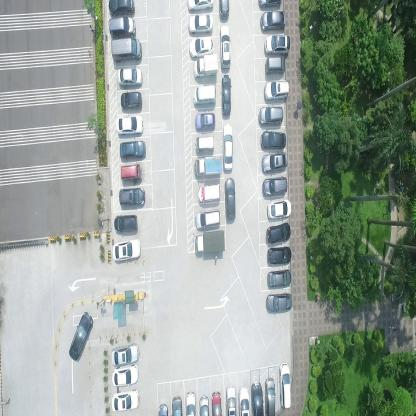car: (68, 311, 93, 362), (194, 229, 226, 254), (111, 236, 141, 262), (111, 38, 141, 63), (110, 342, 140, 367), (111, 386, 140, 411), (111, 363, 139, 388), (260, 150, 288, 174), (193, 54, 218, 80), (266, 221, 292, 246), (193, 155, 221, 178), (115, 114, 144, 136), (278, 360, 291, 408), (263, 78, 289, 101), (188, 36, 214, 58), (259, 11, 285, 33), (264, 35, 290, 57), (109, 18, 135, 40), (265, 291, 292, 312), (266, 196, 290, 219), (258, 104, 283, 126), (261, 174, 286, 196), (195, 208, 221, 229), (119, 140, 146, 160), (118, 187, 145, 207), (223, 123, 234, 172), (219, 25, 231, 69), (224, 177, 236, 221), (188, 14, 213, 35), (118, 68, 143, 89), (266, 268, 291, 289), (192, 85, 216, 106), (260, 131, 286, 150), (197, 184, 220, 205), (113, 213, 138, 232), (119, 163, 142, 183), (264, 377, 276, 415), (251, 380, 264, 415), (108, 0, 136, 16), (267, 246, 291, 264), (221, 74, 231, 116), (264, 56, 284, 76), (195, 112, 216, 131), (120, 92, 142, 110), (225, 383, 237, 415), (186, 0, 214, 13), (195, 135, 215, 153), (239, 386, 250, 415), (212, 391, 223, 416), (185, 390, 196, 415), (171, 394, 183, 416), (218, 0, 230, 20), (198, 395, 209, 415), (258, 0, 282, 8)
